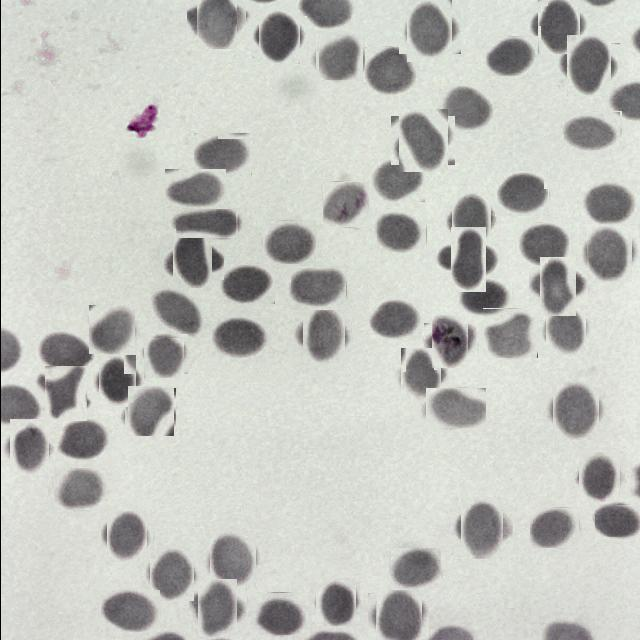red blood cell: (394, 112, 450, 168), (402, 4, 456, 58), (548, 384, 602, 436), (146, 288, 202, 338), (562, 39, 614, 92), (371, 589, 425, 640), (482, 308, 537, 358), (206, 533, 258, 585), (454, 502, 506, 554), (362, 47, 418, 95), (166, 234, 217, 286), (584, 228, 634, 280), (100, 589, 160, 632), (580, 180, 636, 226), (442, 234, 492, 285), (532, 0, 582, 50), (40, 368, 90, 418), (36, 331, 94, 374), (192, 132, 250, 175), (494, 170, 548, 216), (438, 86, 492, 132), (290, 266, 346, 310), (252, 592, 309, 635), (298, 310, 347, 360), (211, 316, 269, 358), (369, 158, 424, 202), (192, 584, 242, 632), (425, 388, 485, 428), (164, 169, 225, 208), (516, 222, 570, 266), (262, 220, 316, 264), (146, 550, 195, 598), (125, 387, 174, 435), (562, 111, 620, 151), (534, 262, 582, 310), (87, 305, 135, 353), (5, 423, 53, 471), (255, 13, 302, 61), (56, 418, 109, 460), (397, 351, 444, 398), (448, 194, 494, 242), (219, 264, 274, 304), (376, 210, 426, 254), (191, 0, 241, 44), (368, 299, 421, 340), (316, 33, 363, 79), (53, 468, 104, 510), (94, 358, 140, 404), (103, 514, 149, 560), (576, 454, 622, 500), (322, 182, 368, 228), (390, 548, 440, 590), (485, 36, 537, 76), (529, 507, 579, 548), (542, 308, 588, 352), (458, 278, 511, 316), (312, 580, 357, 624), (140, 332, 185, 376), (174, 208, 237, 238), (594, 504, 640, 537)
trophozoite: (427, 319, 472, 364)
